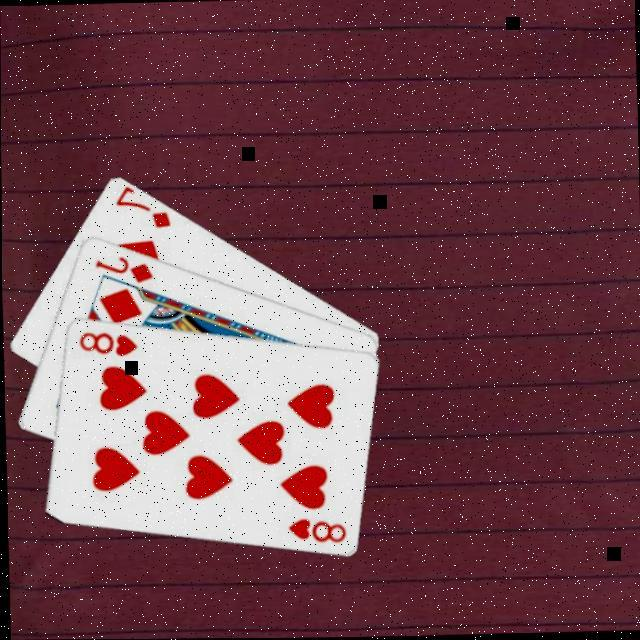7D: (112, 182, 175, 230)
8H: (76, 325, 141, 358), (284, 513, 350, 544)
JD: (92, 251, 158, 286)
